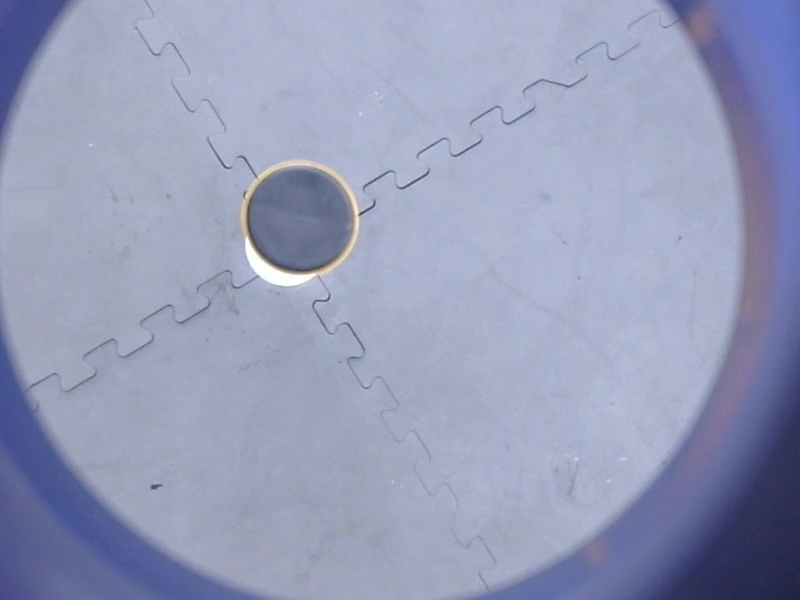tip: (236, 153, 366, 286)
